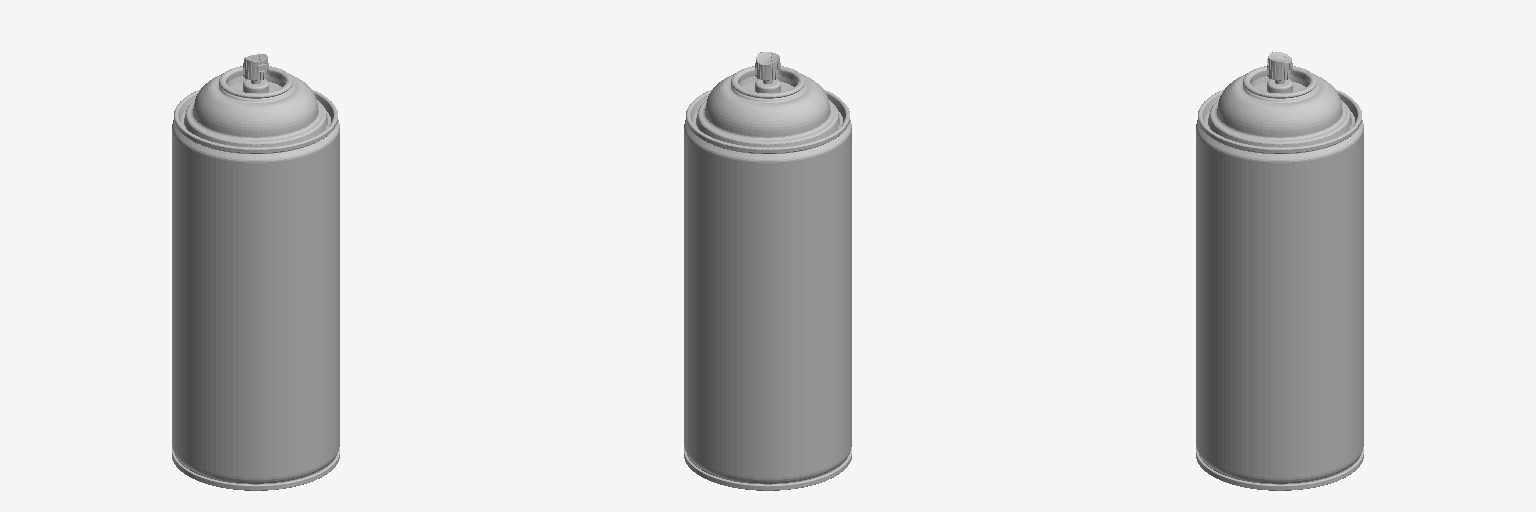
Rendered from spraycan3.obj.
3 renders of one model, left to right at view 1: azimuth 30°, elevation 25°; view 2: azimuth 150°, elevation 25°; view 3: azimuth 270°, elevation 25°, orthographic.
Visible parts, largest first — view 1: spraycanX; view 2: spraycanX; view 3: spraycanX.
Part boxes in pixels (bbox=[...]): spraycanX: bbox=[172, 54, 339, 490]; spraycanX: bbox=[684, 52, 851, 490]; spraycanX: bbox=[1196, 52, 1363, 490].
Size of the model in its own units: 18.75 by 49.08 by 18.76.